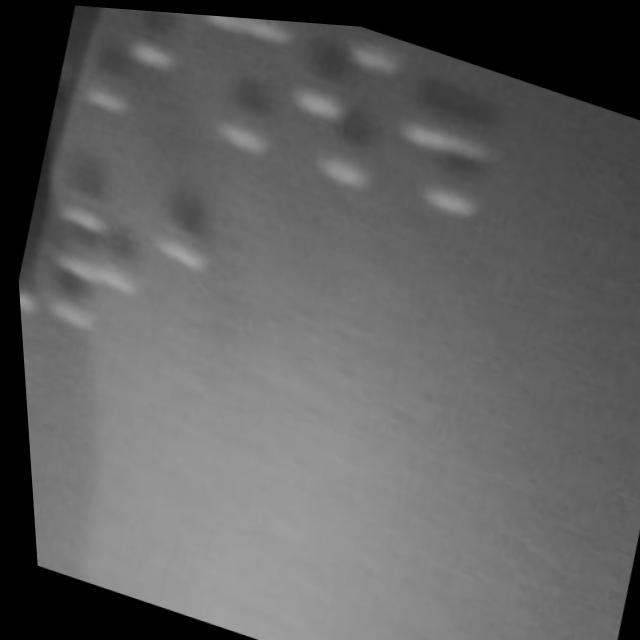braiile: (18, 155, 161, 352), (385, 40, 530, 231), (266, 15, 411, 193), (177, 10, 311, 164), (73, 4, 212, 142)
